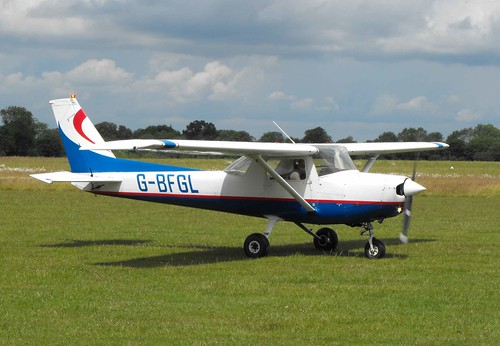Aeronef_de_loisir: (27, 93, 458, 266)
